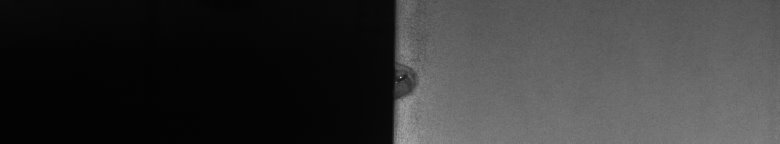hb: (404, 13, 432, 108)
